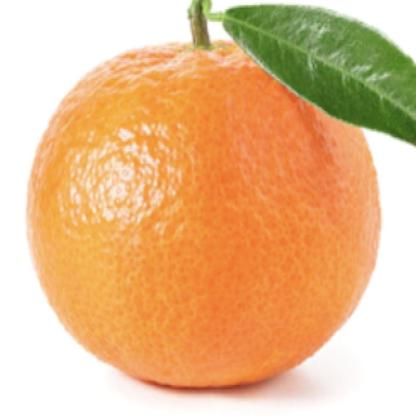fresh: (23, 38, 380, 389)
